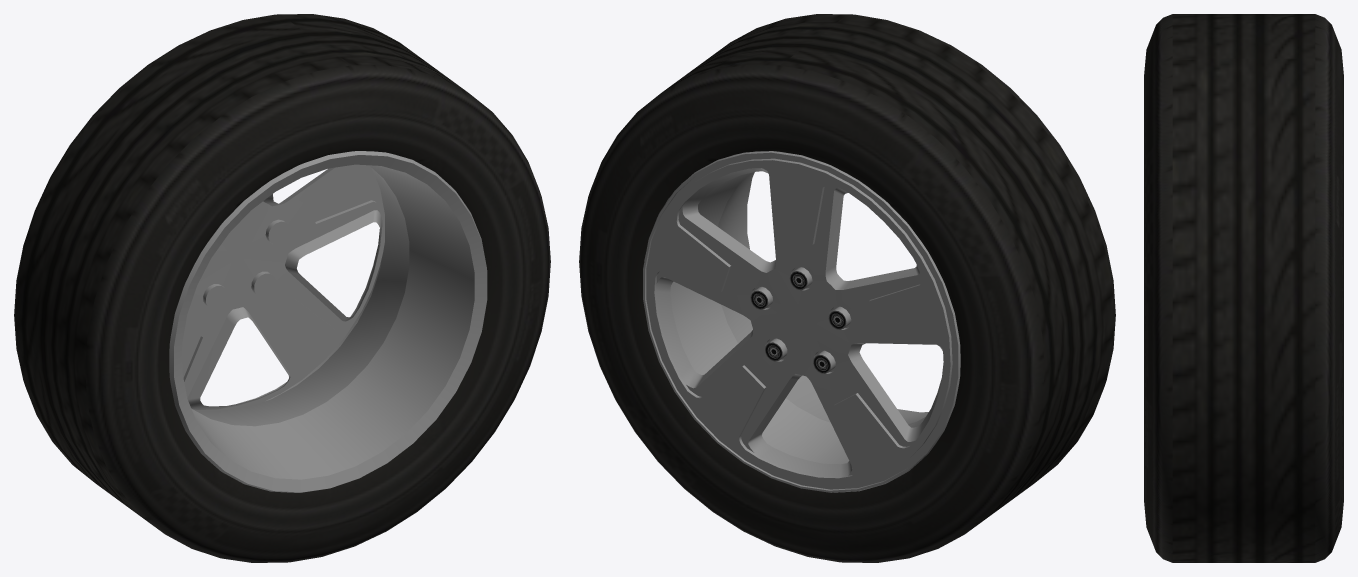
The picture shows the model from 3 angles, left to right: view 1: azimuth 30°, elevation 25°; view 2: azimuth 150°, elevation 25°; view 3: azimuth 270°, elevation 25°; orthographic projection. The views are drawn at different scales.
Parts seen in each view (by area): view 1: J715_8A_901C_L_J715_8A_901C_L_3_DM, J715_8A_901C_L_J715_8A_901C_L_2_DaS; view 2: J715_8A_901C_L_J715_8A_901C_L_3_DM, J715_8A_901C_L_J715_8A_901C_L_2_DaS, J715_8A_901C_L_1_D_J715_8A_901C_L; view 3: J715_8A_901C_L_J715_8A_901C_L_3_DM.
Part boxes in pixels (x1,y1,x2,y2): J715_8A_901C_L_J715_8A_901C_L_3_DM: (14,14,550,562); J715_8A_901C_L_J715_8A_901C_L_2_DaS: (169,151,487,492); J715_8A_901C_L_J715_8A_901C_L_3_DM: (579,14,1115,562); J715_8A_901C_L_J715_8A_901C_L_2_DaS: (643,151,960,492); J715_8A_901C_L_1_D_J715_8A_901C_L: (750,271,846,373); J715_8A_901C_L_J715_8A_901C_L_3_DM: (1144,14,1343,562).
Size of the model in its own units: 89.68 by 89.69 by 32.63.
